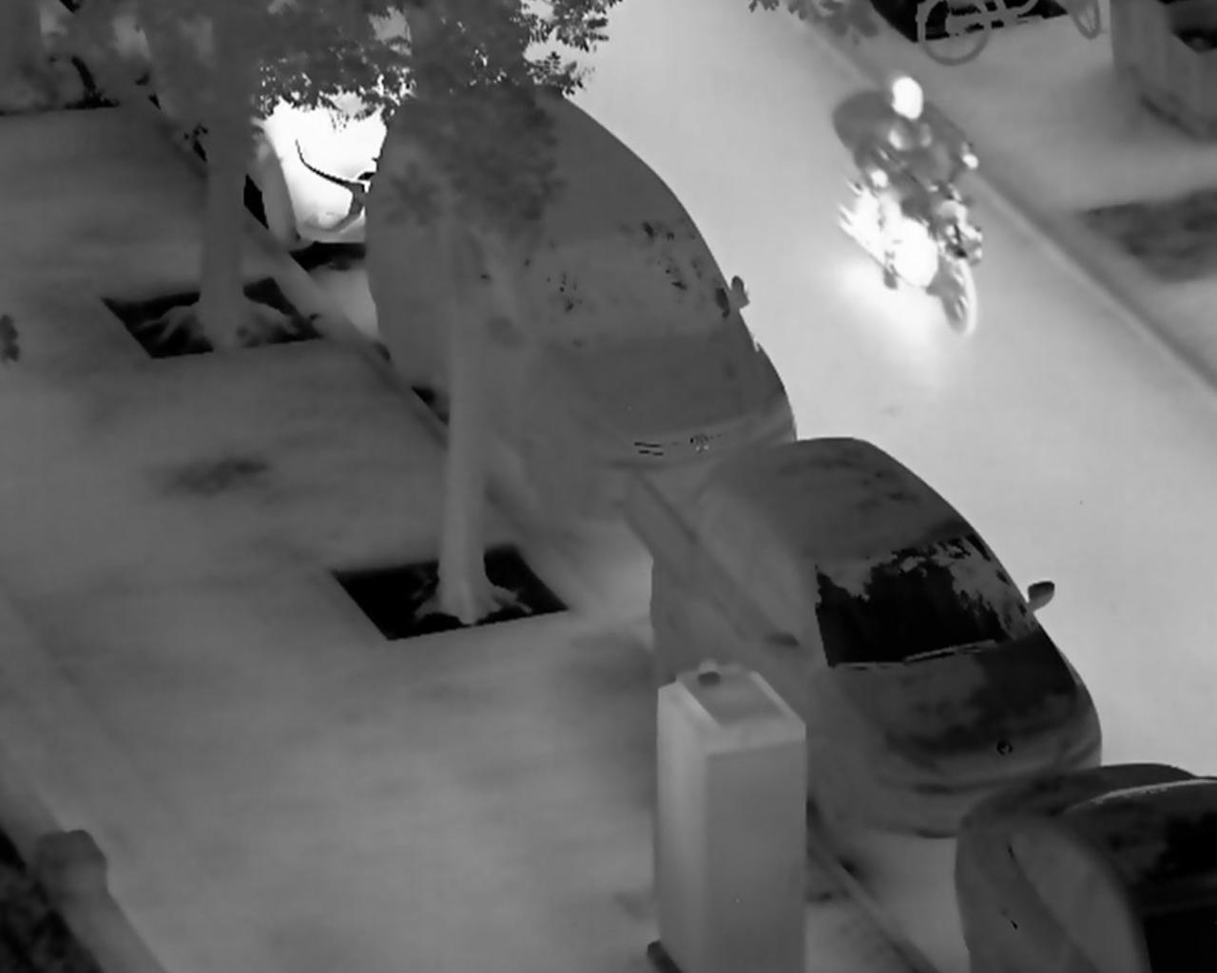person: (856, 73, 986, 295)
